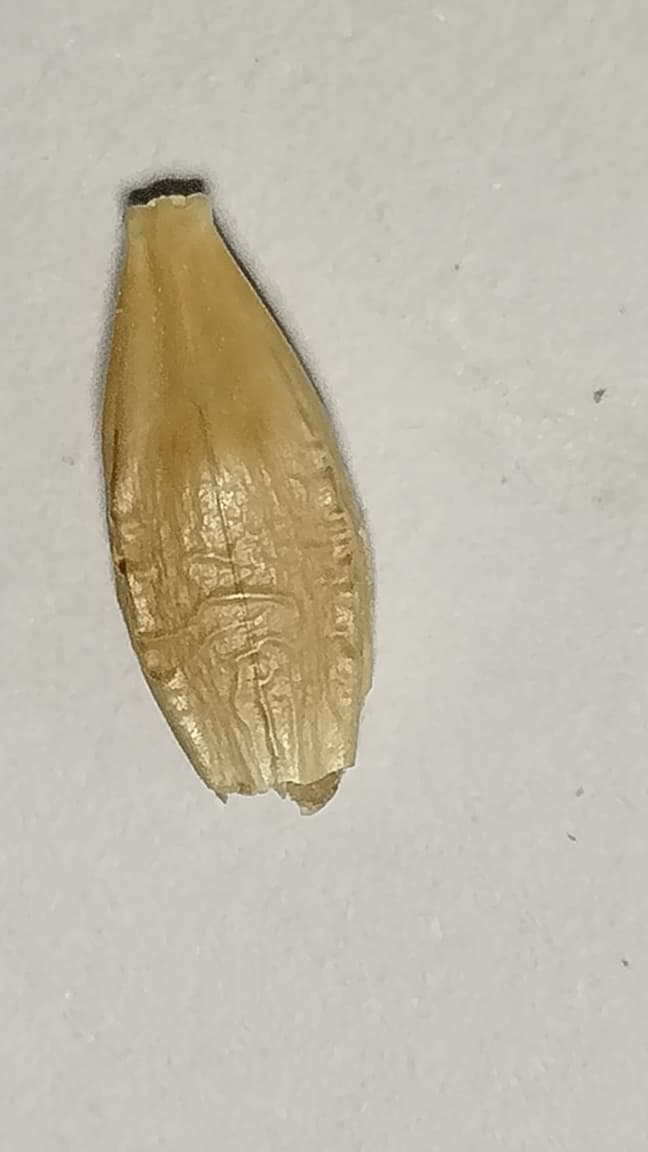healthy-70-60: (104, 195, 371, 803)
shriveledseed: (108, 447, 376, 772)
